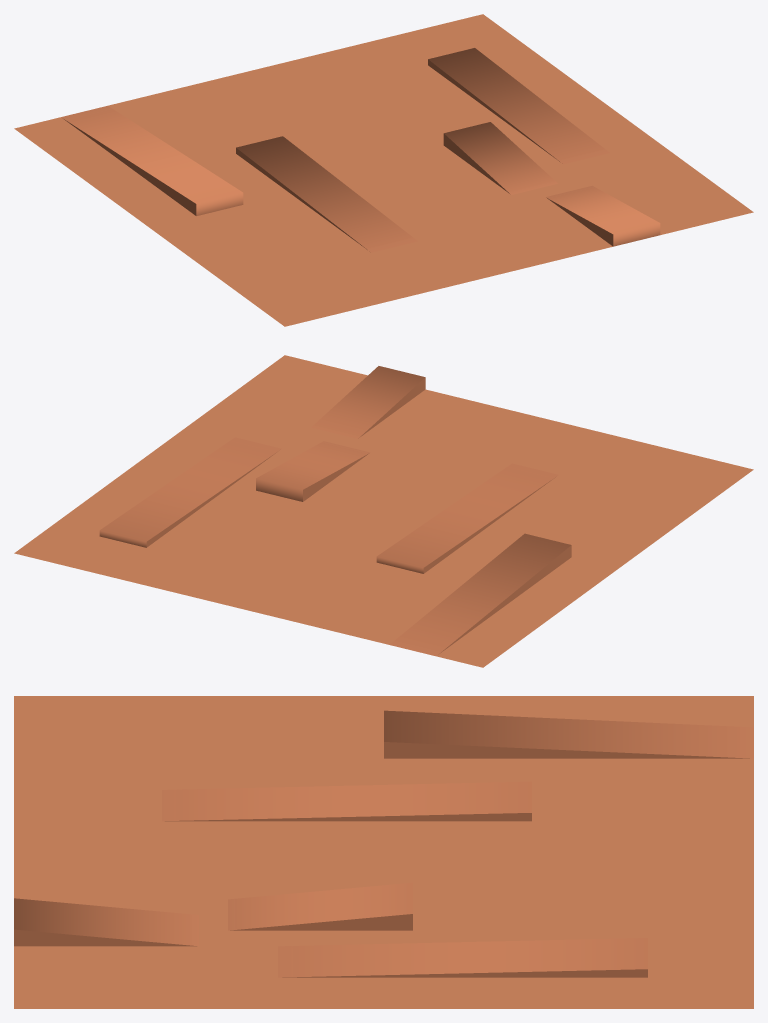
The model's file is floor-wood.glb.
3 views of the same model, one above another, from view 1: azimuth 30°, elevation 25°; view 2: azimuth 150°, elevation 25°; view 3: azimuth 270°, elevation 25° (orthographic). The views are drawn at different scales.
Visible parts, largest first — view 1: floor-wood; view 2: floor-wood; view 3: floor-wood.
Boxes of the visible parts, box(x1,y1,x2,y2) form: floor-wood: box(14, 14, 753, 326); floor-wood: box(14, 355, 753, 667); floor-wood: box(14, 696, 753, 1008).
Size of the model in its own units: 1 by 0.025 by 1.
